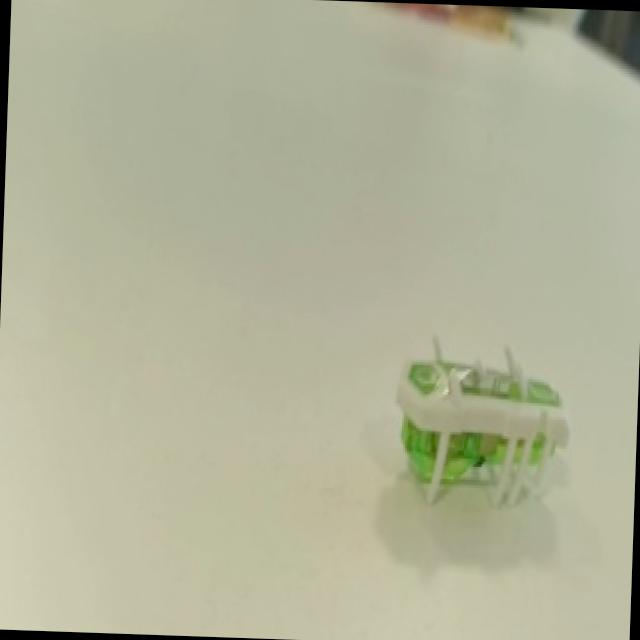4_NanoBug_Blanco: (371, 336, 565, 535)
